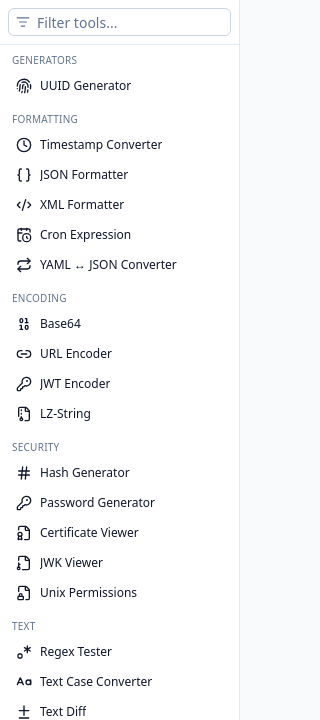
WidgetSidebar › shows an empty state when nothing matches
Type "nonexistent-tool-xyz" into the field with placeholder "Filter tools..." at (120,22), box [8,8,231,36]
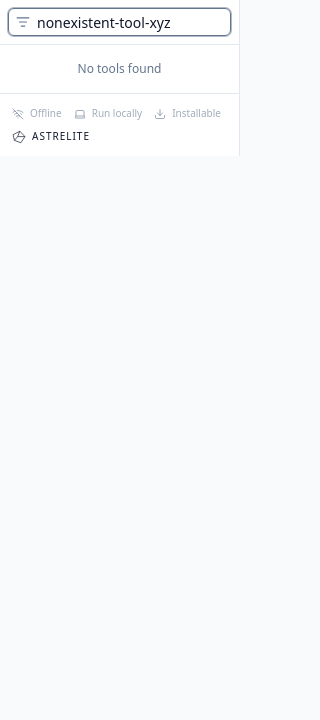
expect the text "No tools found" is shown: met, box [78,60,161,77]
